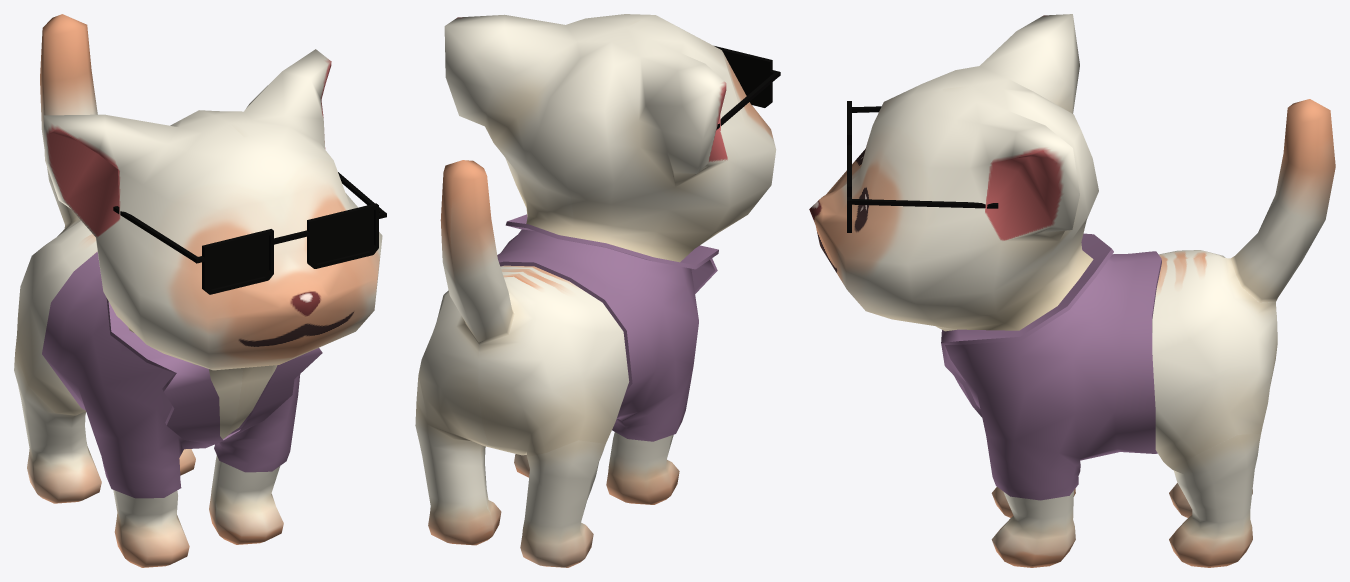
File: Theater Cat02.fbx
The picture shows the model from 3 angles, left to right: view 1: azimuth 30°, elevation 25°; view 2: azimuth 150°, elevation 25°; view 3: azimuth 270°, elevation 25°; orthographic projection. The views are drawn at different scales.
Visible parts, largest first — view 1: Cat_Base001, TS_Cat_Shirt, Theater_Cat_Glasses; view 2: Cat_Base001, TS_Cat_Shirt, Theater_Cat_Glasses; view 3: Cat_Base001, TS_Cat_Shirt, Theater_Cat_Glasses.
Boxes of the visible parts, x1,y1,x2,y2 form: Cat_Base001: [14, 14, 382, 567]; TS_Cat_Shirt: [42, 251, 322, 498]; Theater_Cat_Glasses: [113, 172, 386, 294]; Cat_Base001: [415, 14, 776, 567]; TS_Cat_Shirt: [497, 214, 718, 441]; Theater_Cat_Glasses: [714, 46, 780, 129]; Cat_Base001: [809, 14, 1335, 567]; TS_Cat_Shirt: [941, 233, 1161, 500]; Theater_Cat_Glasses: [847, 101, 998, 232].
Bounding box in the file's own units: 1.75 × 2.83 × 2.68.
4 materials, 1 textured.
